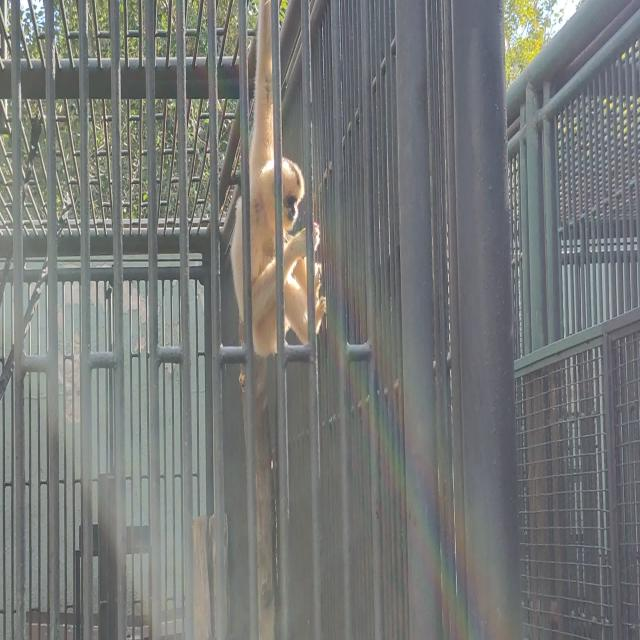drone: (230, 1, 327, 358)
